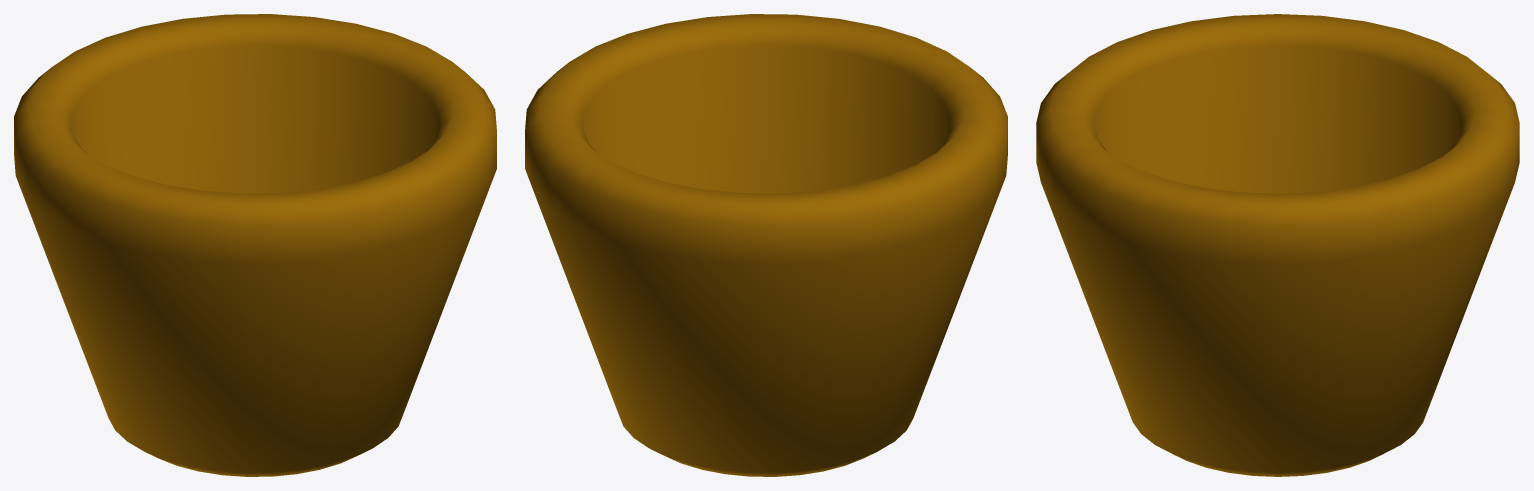
The model's file is pot.glb.
The picture shows the model from 3 angles, left to right: view 1: azimuth 30°, elevation 25°; view 2: azimuth 150°, elevation 25°; view 3: azimuth 270°, elevation 25°; orthographic projection.
Parts seen in each view (by area): view 1: ShelfPot; view 2: ShelfPot; view 3: ShelfPot.
Part boxes in pixels (box(x1,y1,x2,y2)): ShelfPot: box(14, 14, 496, 476); ShelfPot: box(525, 14, 1007, 476); ShelfPot: box(1036, 14, 1519, 476).
Bounding box in the file's own units: 0.1393 × 0.0993 × 0.1393.
